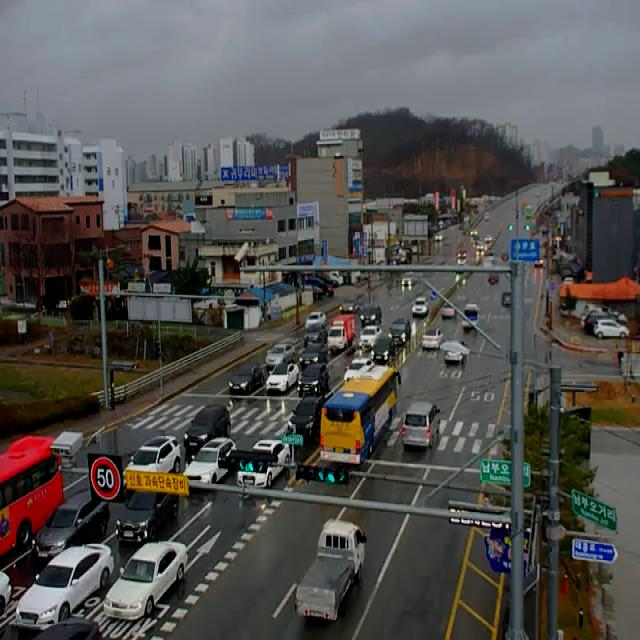Bus: (320, 365, 401, 464), (0, 434, 65, 554)
Car: (15, 543, 114, 631), (104, 541, 188, 620), (32, 490, 111, 561), (116, 491, 179, 543), (124, 437, 180, 488), (238, 440, 290, 488), (183, 438, 237, 484), (184, 403, 231, 450), (402, 402, 441, 446), (287, 394, 326, 436), (32, 621, 102, 640), (581, 305, 629, 328), (229, 363, 264, 392), (298, 364, 329, 394), (585, 310, 627, 332), (266, 363, 299, 391), (594, 319, 630, 339), (344, 358, 375, 381), (266, 344, 296, 366), (389, 319, 411, 346), (300, 346, 327, 366), (371, 339, 395, 361), (0, 570, 12, 614), (304, 326, 328, 347), (445, 342, 466, 364), (422, 328, 443, 349), (361, 306, 382, 326), (361, 326, 382, 346), (306, 312, 326, 330), (340, 296, 361, 313), (412, 296, 428, 316), (442, 302, 457, 320), (502, 292, 512, 307), (488, 273, 498, 285), (402, 276, 414, 286), (534, 258, 544, 266), (501, 252, 509, 262), (476, 242, 484, 251), (458, 250, 467, 258), (435, 234, 443, 241), (470, 229, 478, 236), (484, 235, 492, 242)
Truck: (296, 520, 367, 620), (328, 315, 356, 349), (463, 304, 480, 330)
